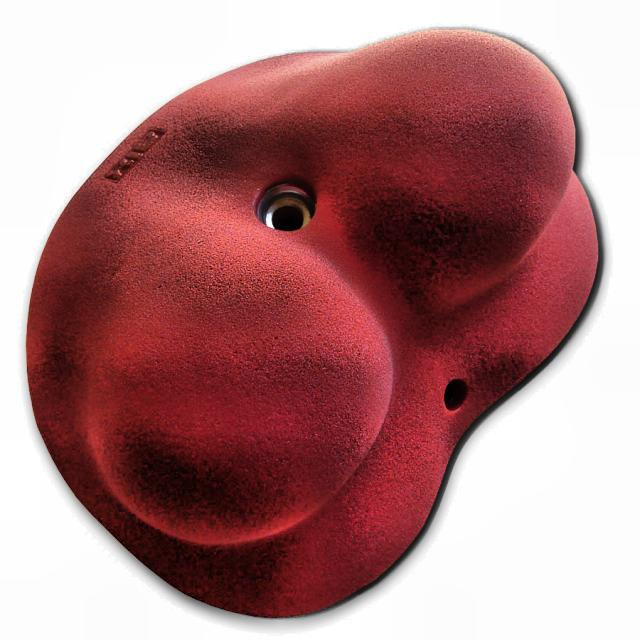Hold: (20, 31, 609, 616)
